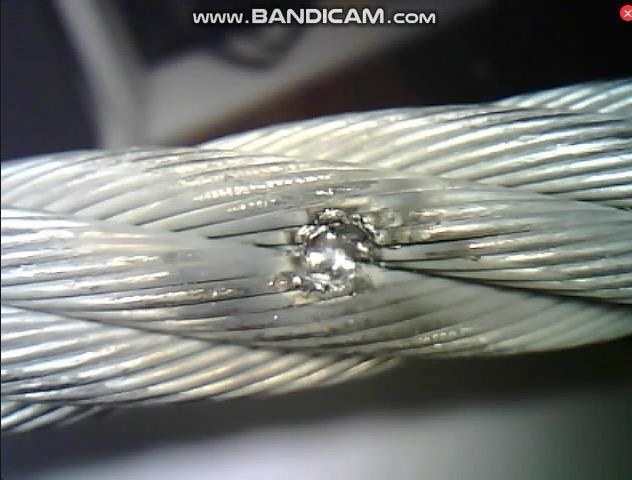thunderbolt: (263, 193, 431, 319)
